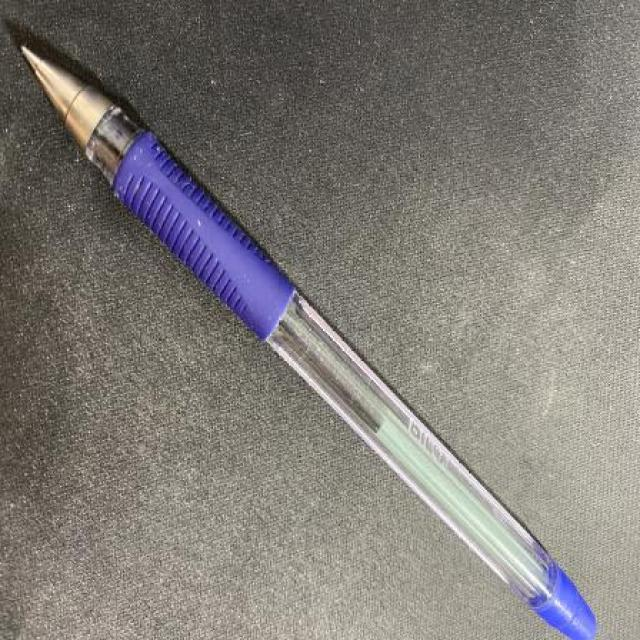pen: (18, 43, 595, 640)
